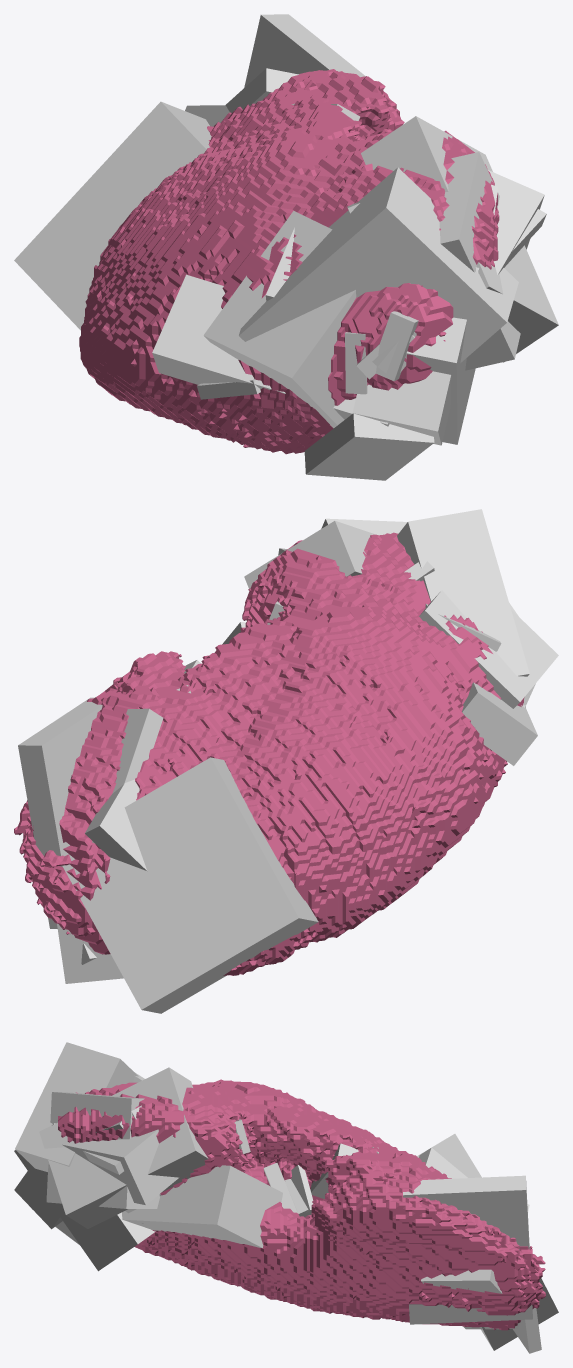
The model's file is non_hra_mapping.glb.
3 views of the same model, one above another, from view 1: azimuth 30°, elevation 25°; view 2: azimuth 150°, elevation 25°; view 3: azimuth 270°, elevation 25° (orthographic). The views are drawn at different scales.
Visible parts, largest first — view 1: world; view 2: world; view 3: world.
Part boxes in pixels (<box>): world: <box>14,14,558,480</box>; world: <box>14,509,558,1013</box>; world: <box>14,1042,558,1353</box>.
Size of the model in its own units: 83.86 by 83.53 by 141.
